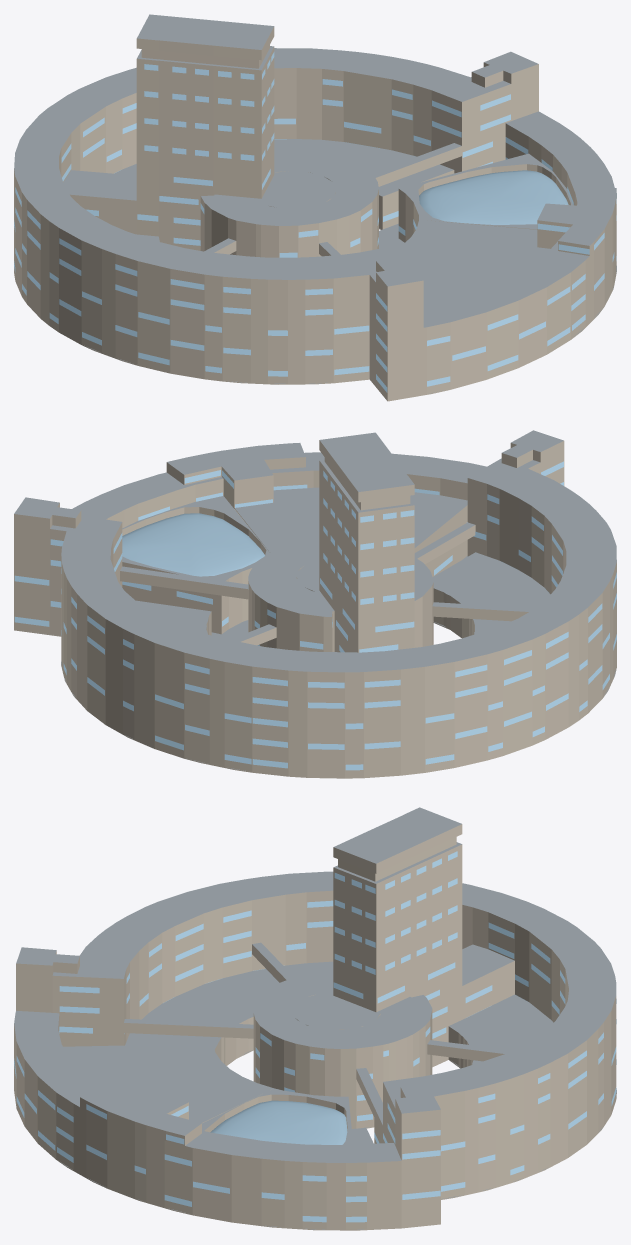
3 renders of one model, top to bottom at view 1: azimuth 30°, elevation 25°; view 2: azimuth 150°, elevation 25°; view 3: azimuth 270°, elevation 25°, orthographic.
Visible parts, largest first — view 1: stone, roof, window, glass; view 2: stone, roof, window, glass; view 3: stone, roof, window, glass.
Boxes of the visible parts, bbox=[...] form: stone: bbox=[14, 27, 616, 401]; roof: bbox=[14, 14, 616, 393]; window: bbox=[14, 52, 616, 392]; glass: bbox=[419, 170, 568, 224]; stone: bbox=[14, 440, 616, 778]; roof: bbox=[14, 430, 616, 770]; window: bbox=[14, 461, 616, 770]; glass: bbox=[122, 513, 264, 576]; stone: bbox=[14, 824, 616, 1230]; roof: bbox=[14, 807, 616, 1229]; window: bbox=[14, 851, 616, 1222]; glass: bbox=[210, 1100, 347, 1144].
Bounding box in the file's own units: 162 × 68 × 162.
